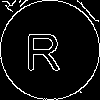R: (25, 25, 61, 70)
